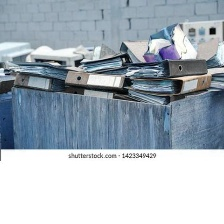book: (127, 72, 216, 98), (124, 57, 215, 79), (116, 35, 172, 67), (5, 59, 77, 83), (120, 81, 176, 110), (59, 69, 131, 90), (10, 69, 64, 96), (188, 35, 224, 70), (76, 51, 135, 71), (68, 84, 115, 103)
